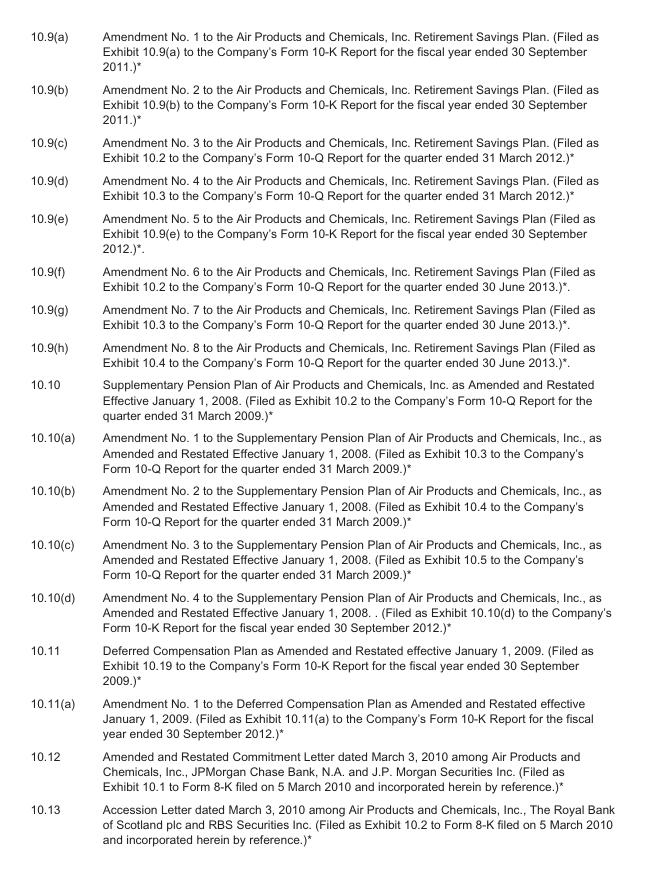table: (29, 28, 614, 845)
table column: (87, 28, 614, 845), (29, 28, 87, 845)
table row: (29, 690, 614, 744), (29, 77, 614, 130), (29, 206, 614, 259), (29, 372, 614, 425), (29, 425, 614, 478), (29, 478, 614, 531), (29, 531, 614, 584), (29, 584, 614, 637), (29, 637, 614, 690), (29, 744, 614, 797), (29, 28, 614, 77), (29, 797, 614, 845), (29, 130, 614, 168), (29, 168, 614, 206), (29, 259, 614, 297), (29, 334, 614, 372), (29, 297, 614, 334)
